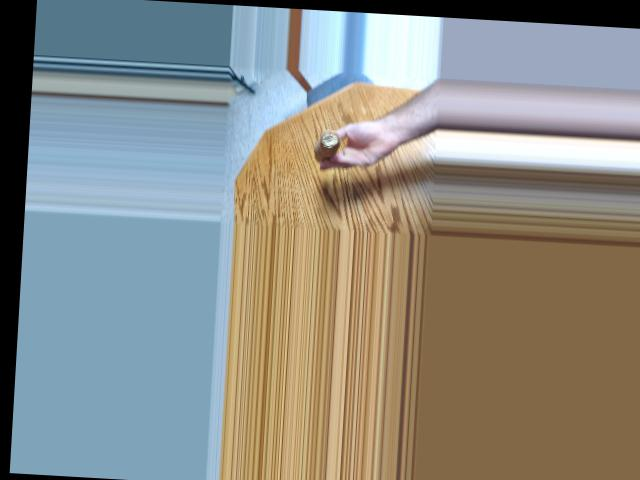sweet_potato: (309, 124, 349, 165)
